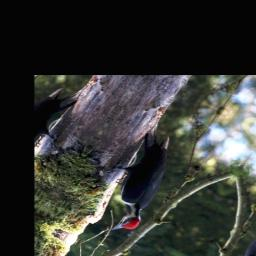Woodpecker: (72, 114, 201, 238)
